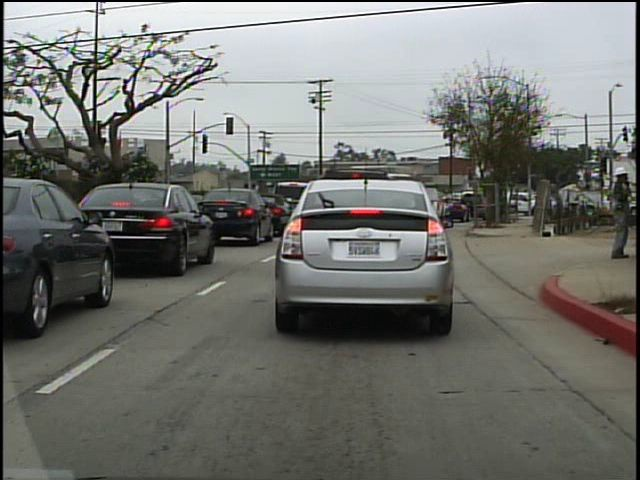person: (603, 158, 636, 263)
